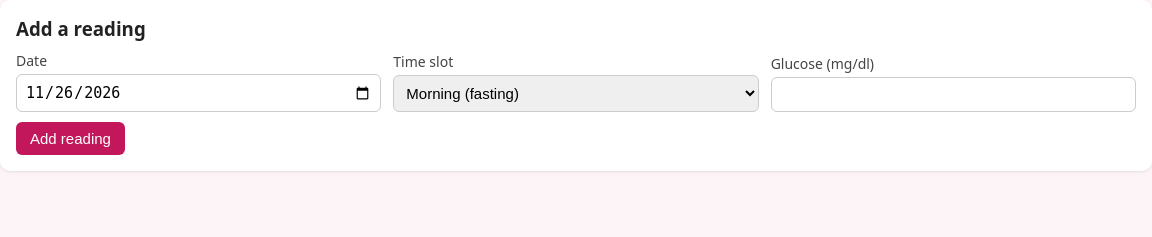
Test case: rejects 39 as out of range
The width and height of the screenshot is (1152, 237).
Type "39" into the field labelled "Glucose (mg/dl)" at (953, 94), box [771,77,1136,112]
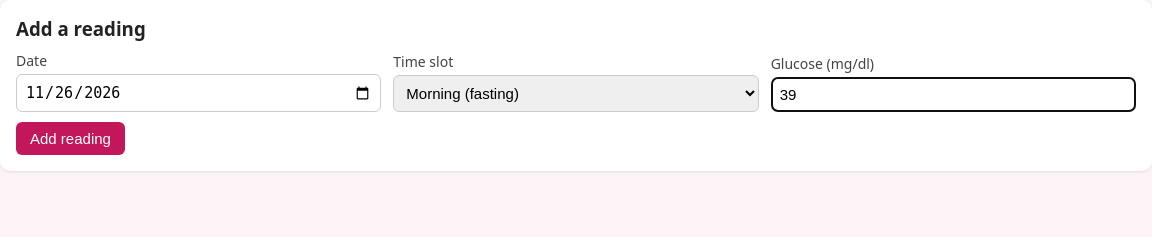
Click the button "Add reading" at (70, 138), box [16,122,125,155]
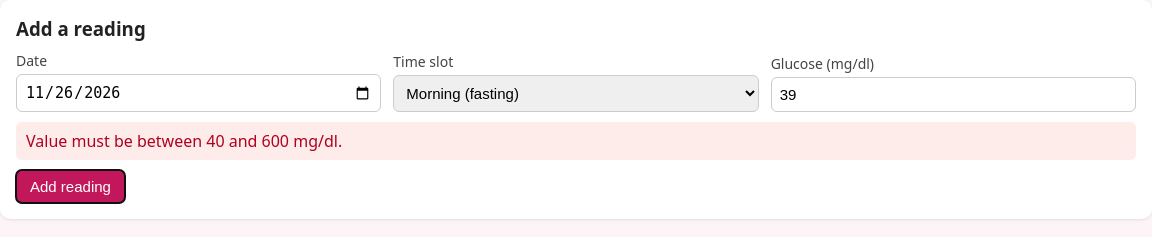
expect the message reads "Value must be between 40 and 600 mg/dl.": met, box [26,130,342,152]
